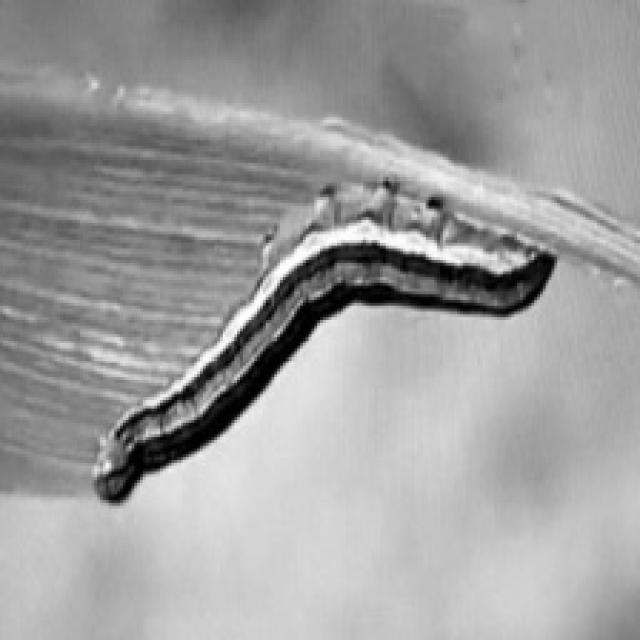Plaga: (72, 164, 564, 516)
